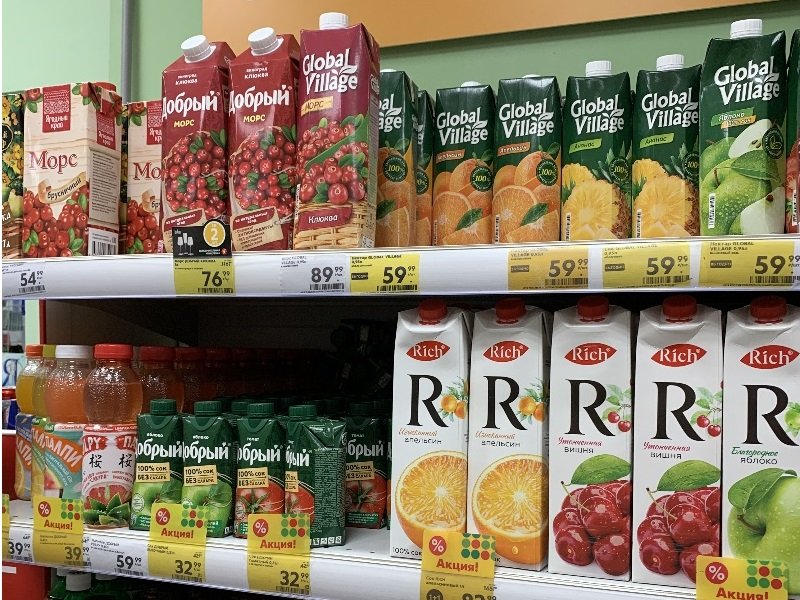juice: (628, 294, 734, 589), (463, 295, 563, 579), (544, 299, 639, 589), (290, 9, 384, 258), (718, 289, 800, 563), (394, 295, 482, 544), (697, 15, 792, 234), (20, 79, 129, 263), (223, 28, 305, 255), (155, 32, 240, 245), (560, 55, 642, 248), (630, 46, 710, 242), (489, 70, 568, 250), (432, 74, 500, 251)
